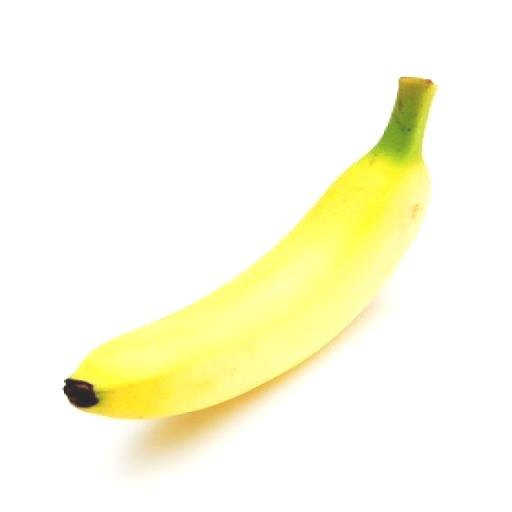fruit: (64, 78, 436, 418)
